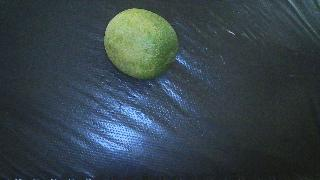DESECHO: (104, 8, 178, 79)
